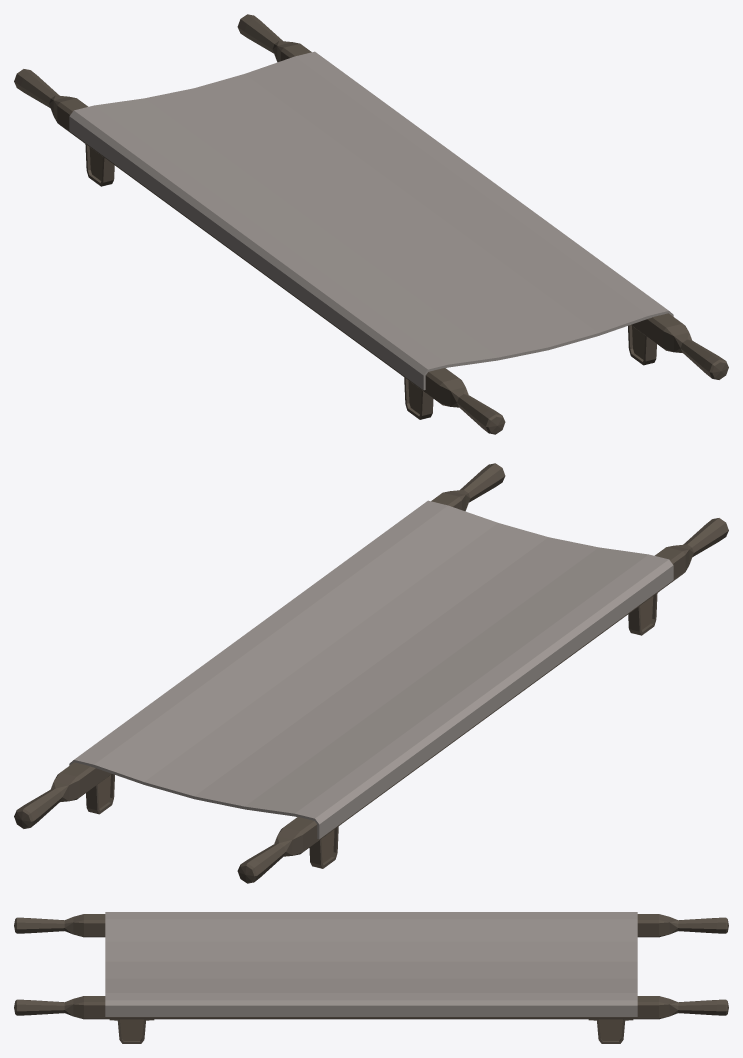
File: Prop_Stretcher_01.fbx
3 renders of one model, top to bottom at view 1: azimuth 30°, elevation 25°; view 2: azimuth 150°, elevation 25°; view 3: azimuth 270°, elevation 25°, orthographic. The views are drawn at different scales.
Parts seen in each view (by area): view 1: Prop_Stretcher_01_LOD0; view 2: Prop_Stretcher_01_LOD0; view 3: Prop_Stretcher_01_LOD0.
Boxes of the visible parts, bbox=[...] form: Prop_Stretcher_01_LOD0: bbox=[14, 14, 728, 434]; Prop_Stretcher_01_LOD0: bbox=[14, 463, 728, 883]; Prop_Stretcher_01_LOD0: bbox=[14, 912, 728, 1043].
Size of what is drawn, in the model's own units: 73.32 by 16.7 by 242.
